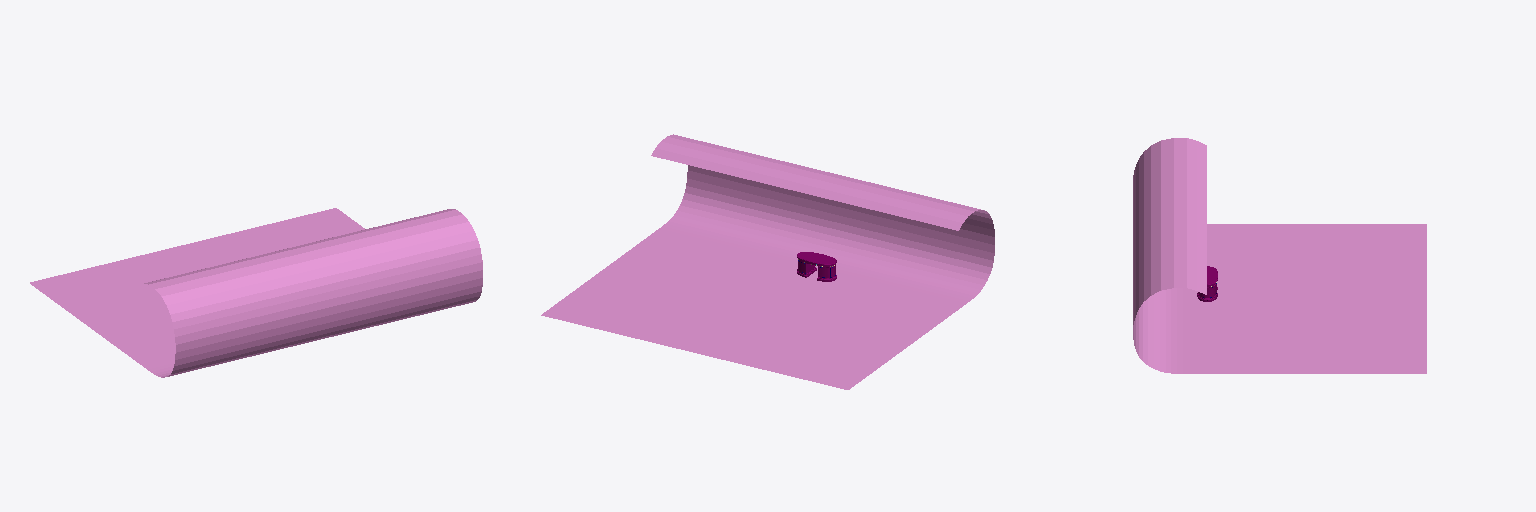
3 views of the same model, side by side, from view 1: azimuth 30°, elevation 25°; view 2: azimuth 150°, elevation 25°; view 3: azimuth 270°, elevation 25° (orthographic).
Parts seen in each view (by area): view 1: sd; view 2: sd; view 3: sd.
Part boxes in pixels (x1,y1,x2,y2): sd: (30,208,482,377); sd: (541,134,994,389); sd: (1133,138,1426,373).
Size of the model in its own units: 1432 by 383 by 1185.